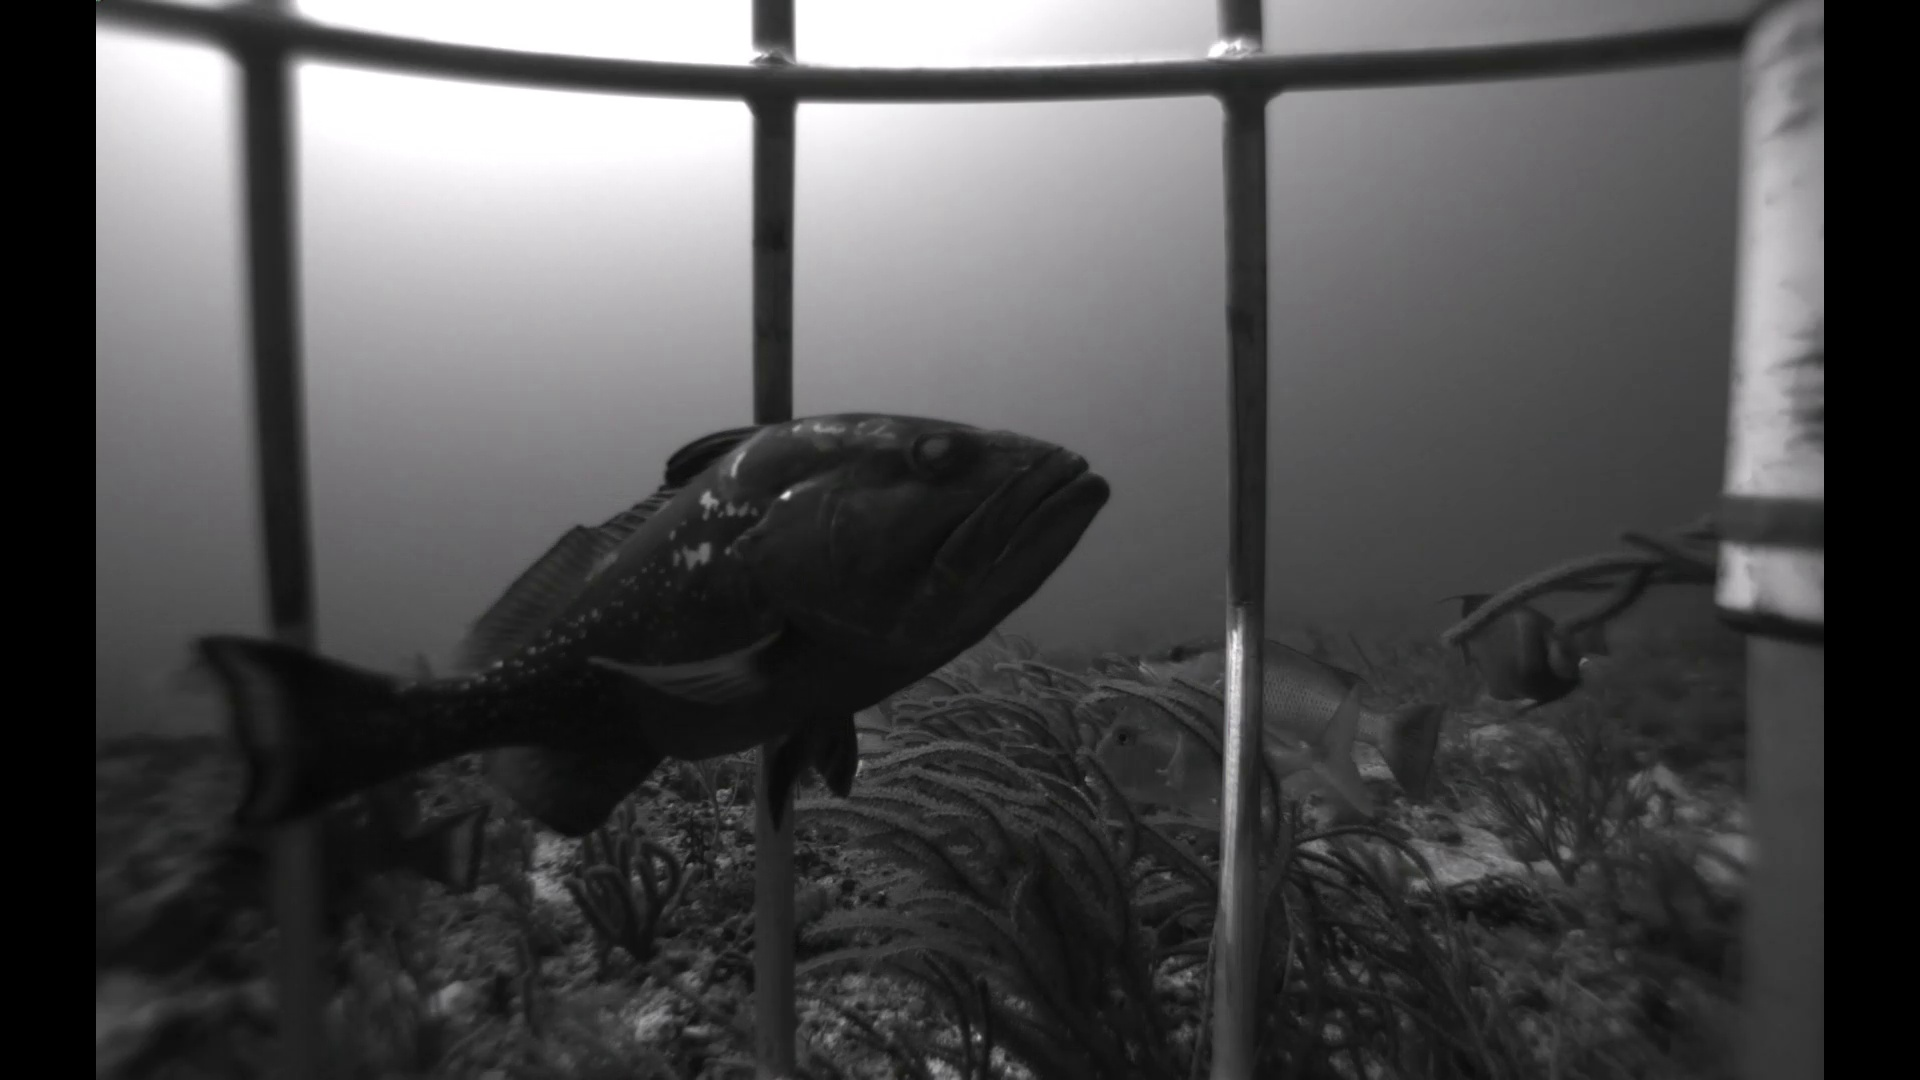CALAMUSNODOSUS-170210608: (1062, 671, 1390, 815)
EPINEPHELUSMORIO-170021211: (127, 402, 1131, 894), (206, 740, 506, 923)
LUTJANUSGRISEUS-170151109: (1104, 618, 1449, 800)
PAGRUSPAGRUS-170212302: (978, 622, 1017, 657)
POMACANTHUSARCUATUS-170290201: (1414, 589, 1598, 727)
